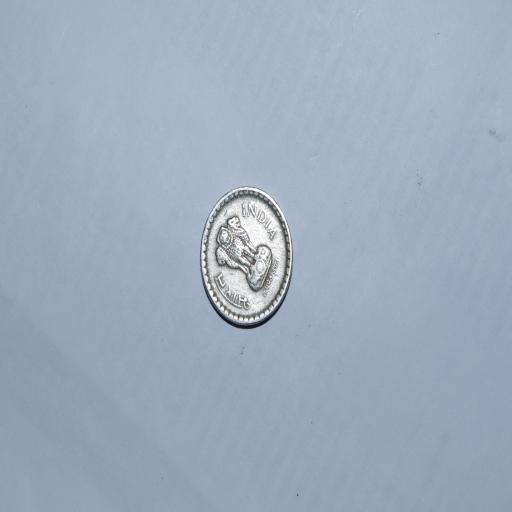rupee5: (197, 183, 296, 330)
